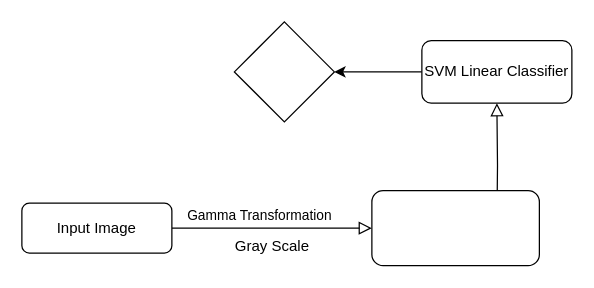
Image size: 594x288. Some labels were removed from this diagram. Here are the shapes that lost their labels. From the top down, the centre of each, then its label:
pixel 283 71: Is Human
pixel 455 227: HOG Feature
